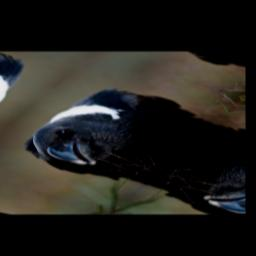Crow: (8, 78, 220, 192)
